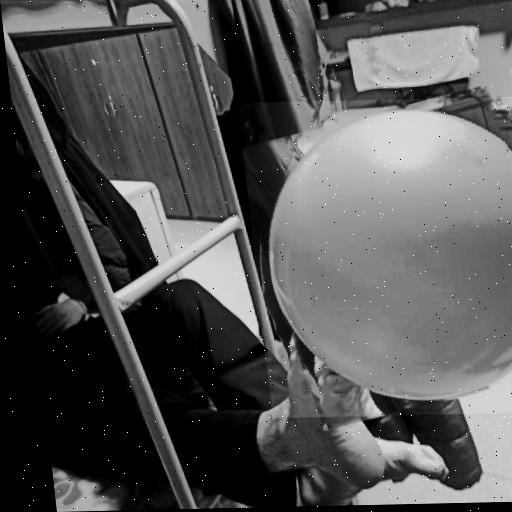balloon: (237, 97, 512, 418)
